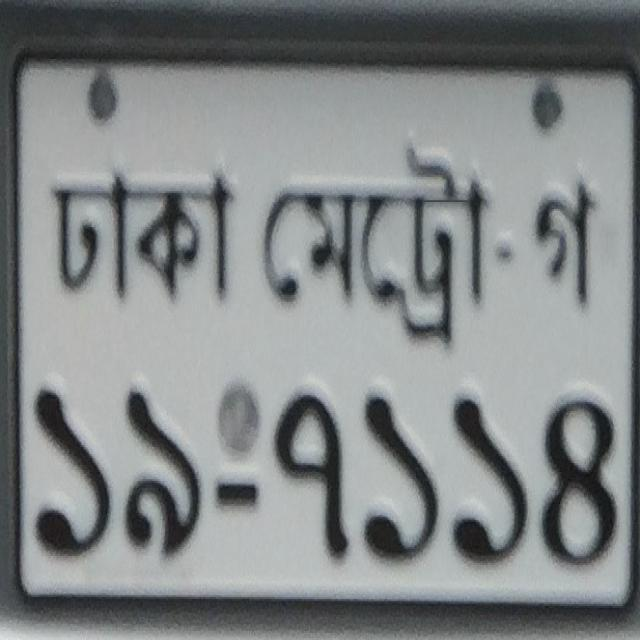numberplate: (1, 3, 637, 613)
